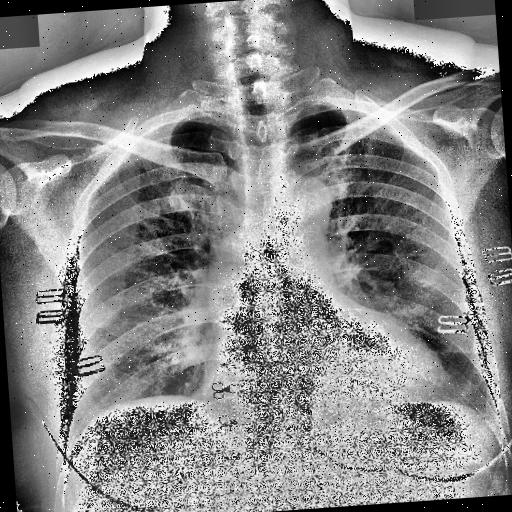0- Aortic enlargement: (273, 173, 337, 238), (275, 176, 333, 238), (280, 174, 333, 232)
3- Cardiomegaly: (194, 330, 452, 437), (194, 314, 448, 418), (191, 326, 452, 416)
